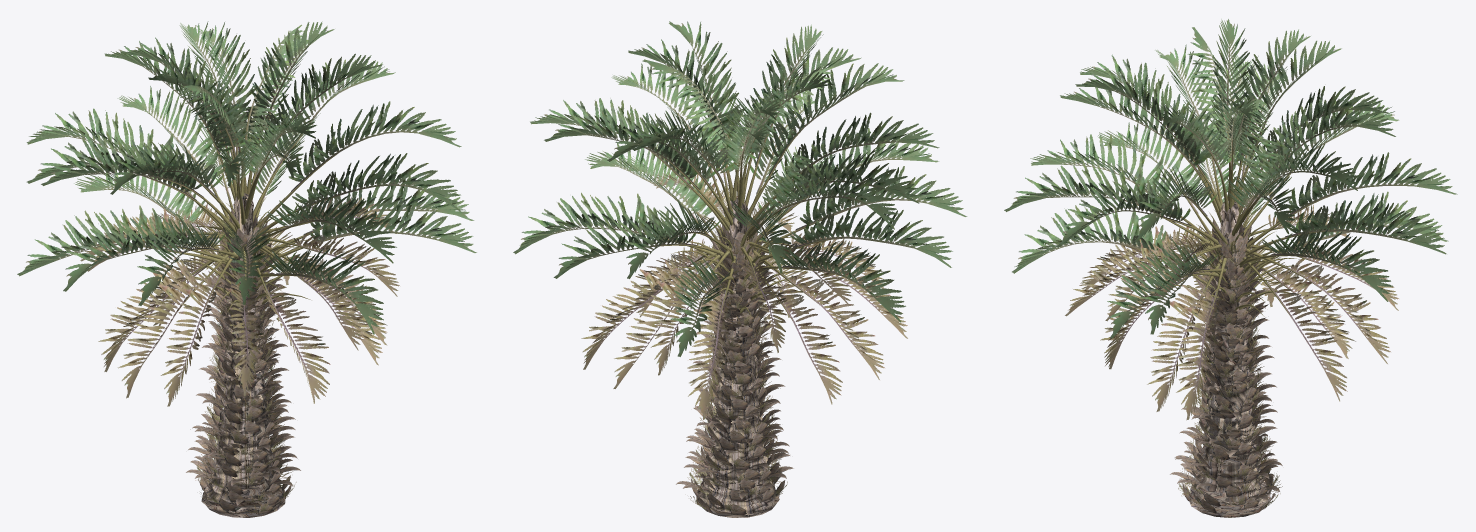
File: tree.glb
3 renders of one model, left to right at view 1: azimuth 30°, elevation 25°; view 2: azimuth 150°, elevation 25°; view 3: azimuth 270°, elevation 25°, orthographic. The views are drawn at different scales.
Visible parts, largest first — view 1: _1_HP_Palm3_Leaf_0, _1_HP_Palm3_Leaf_2_0, _1_HP_Palm3_Trunk_0; view 2: _1_HP_Palm3_Leaf_0, _1_HP_Palm3_Leaf_2_0, _1_HP_Palm3_Trunk_0; view 3: _1_HP_Palm3_Leaf_0, _1_HP_Palm3_Leaf_2_0, _1_HP_Palm3_Trunk_0.
Boxes of the visible parts, box(x1,y1,x2,y2) form: _1_HP_Palm3_Leaf_0: box(17, 21, 476, 406); _1_HP_Palm3_Leaf_2_0: box(143, 106, 353, 514); _1_HP_Palm3_Trunk_0: box(201, 193, 285, 517); _1_HP_Palm3_Leaf_0: box(513, 21, 967, 419); _1_HP_Palm3_Leaf_2_0: box(627, 116, 846, 514); _1_HP_Palm3_Trunk_0: box(696, 198, 779, 517); _1_HP_Palm3_Leaf_0: box(1004, 19, 1457, 420); _1_HP_Palm3_Leaf_2_0: box(1120, 113, 1336, 512); _1_HP_Palm3_Trunk_0: box(1189, 201, 1270, 517).
Bounding box in the file's own units: 9.98 × 10.9 × 10.21.
Materials: 3 (3 with a texture image).
